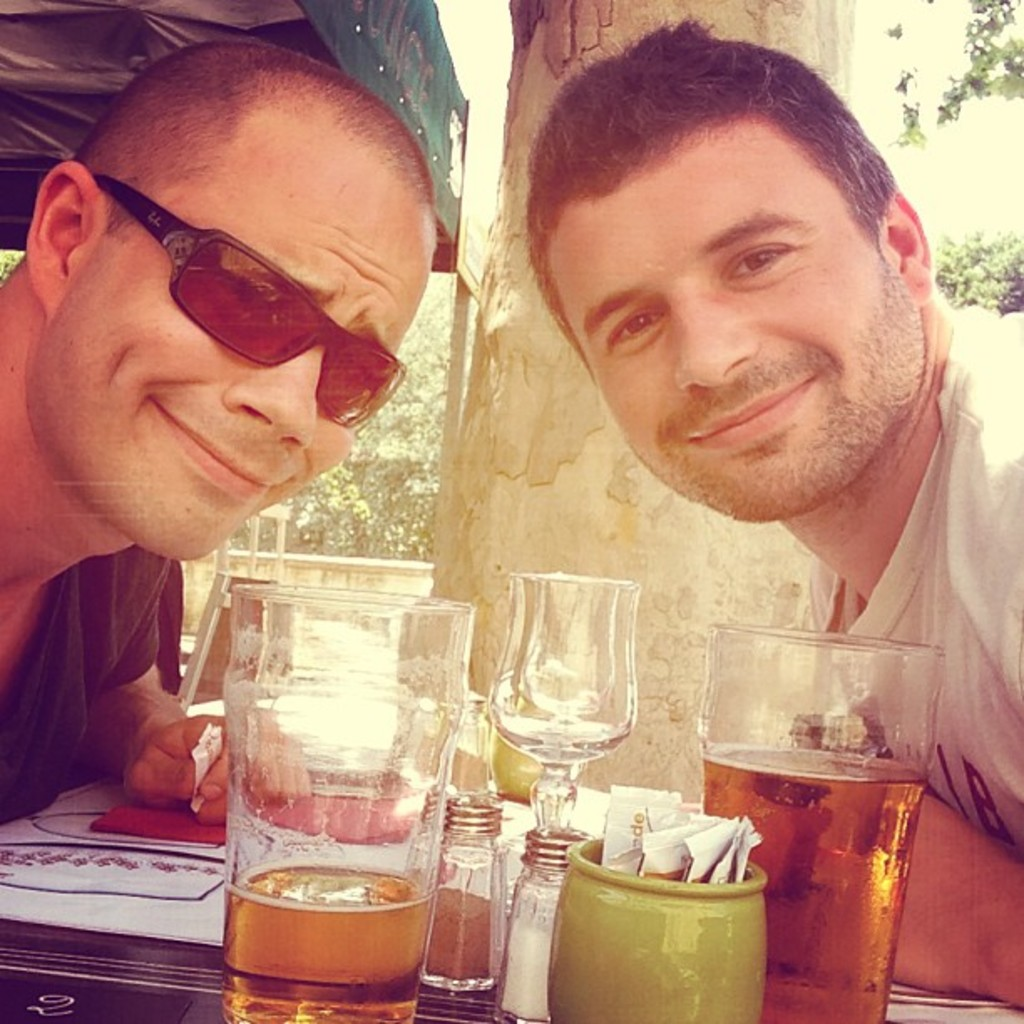Beer: (702, 747, 921, 1022), (222, 863, 431, 1022)
